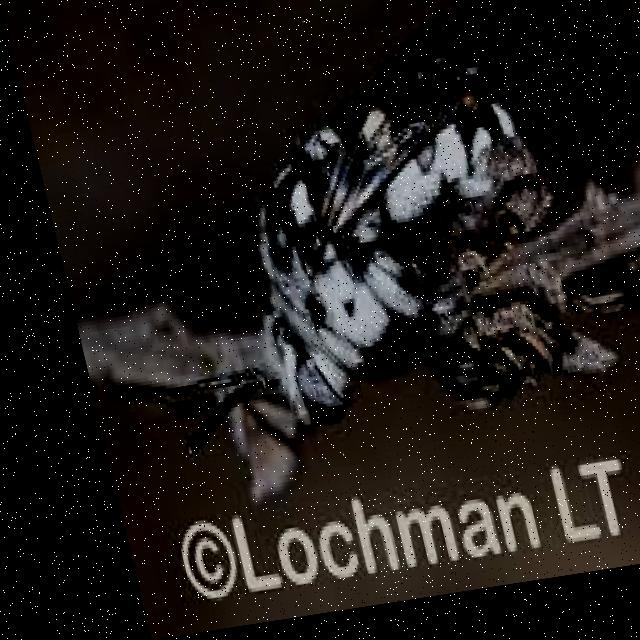Thyreus: (115, 0, 603, 492)
